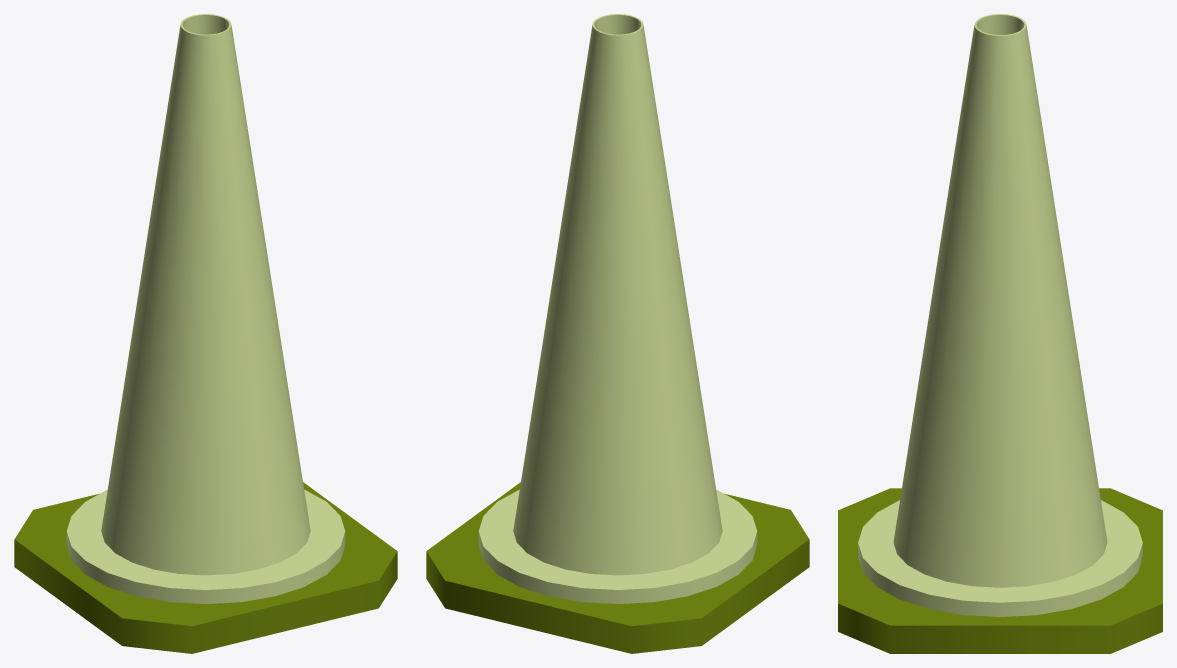
File: luzhang.fbx
The picture shows the model from 3 angles, left to right: view 1: azimuth 30°, elevation 25°; view 2: azimuth 150°, elevation 25°; view 3: azimuth 270°, elevation 25°; orthographic projection. The views are drawn at different scales.
Visible parts, largest first — view 1: g Cone001, g Box001; view 2: g Cone001, g Box001; view 3: g Cone001, g Box001.
Part boxes in pixels (x1=…): g Cone001: x1=66, y1=14, x2=345, y2=603; g Box001: x1=14, y1=482, x2=397, y2=653; g Cone001: x1=478, y1=14, x2=757, y2=603; g Box001: x1=426, y1=482, x2=809, y2=653; g Cone001: x1=858, y1=14, x2=1142, y2=616; g Box001: x1=838, y1=488, x2=1162, y2=653.
Size of the model in its own units: 19.38 by 36.89 by 19.38.
